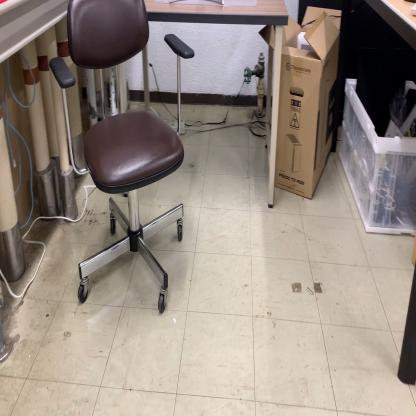chair: (49, 0, 196, 315)
